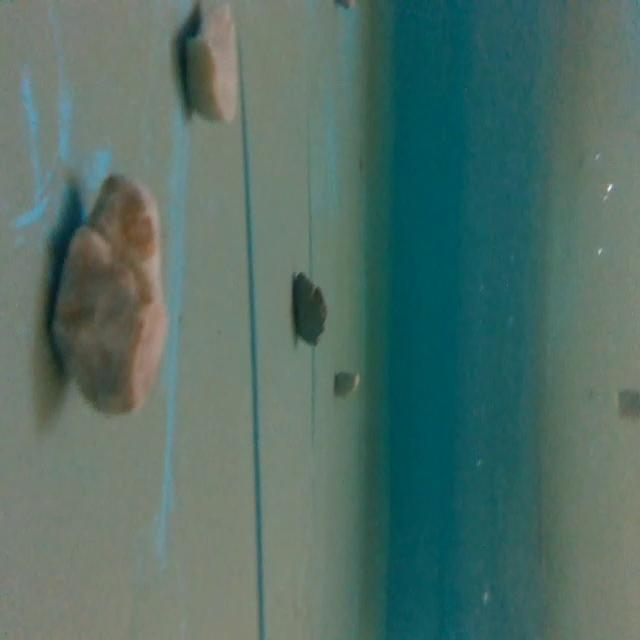rock: (42, 169, 172, 427), (178, 2, 248, 130), (290, 264, 329, 355), (333, 370, 362, 400)
